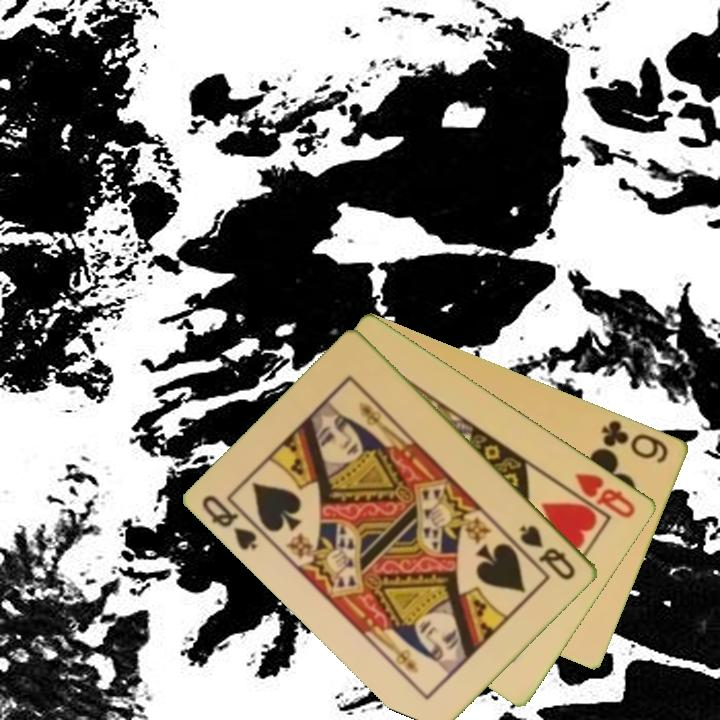6c: (598, 416, 672, 466)
Qh: (572, 469, 639, 521)
Qs: (516, 521, 579, 583), (198, 491, 261, 553)
